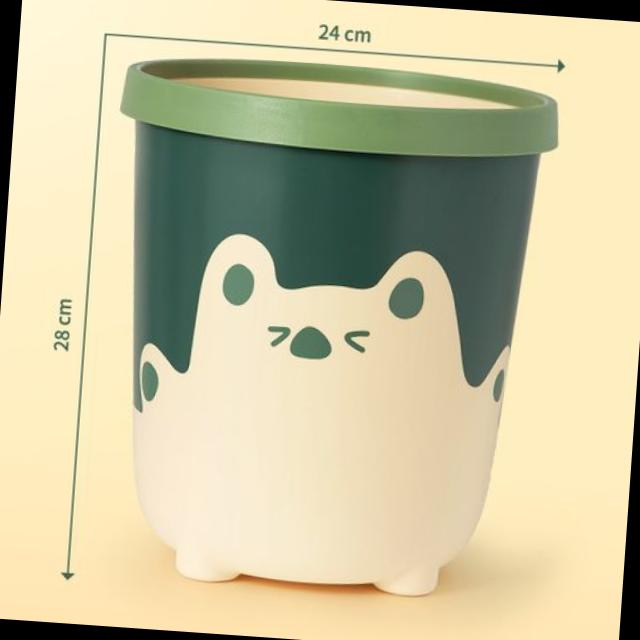dustbin: (84, 44, 566, 610)
